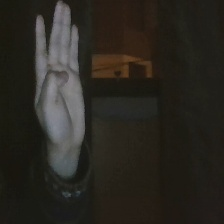B: (32, 1, 95, 149)
